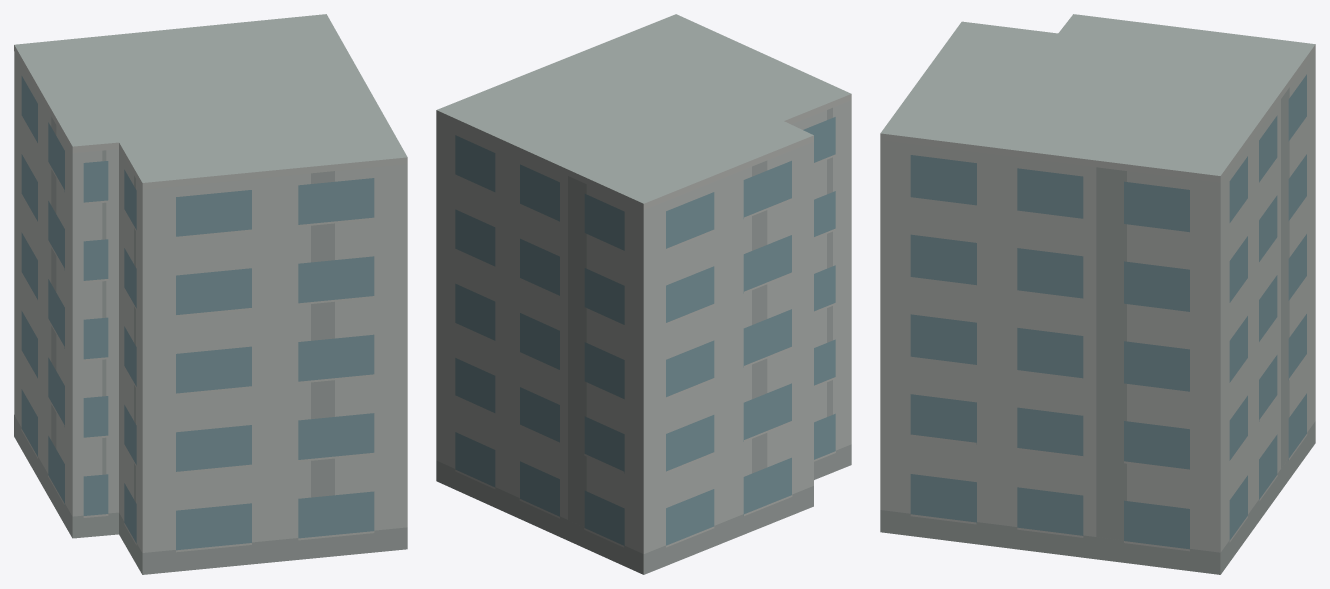
File: survey-upis-32876795.glb
The picture shows the model from 3 angles, left to right: view 1: azimuth 30°, elevation 25°; view 2: azimuth 150°, elevation 25°; view 3: azimuth 270°, elevation 25°; orthographic projection. The views are drawn at different scales.
Visible parts, largest first — view 1: survey-upis-32876795.tmp; view 2: survey-upis-32876795.tmp; view 3: survey-upis-32876795.tmp.
Boxes of the visible parts, <box> form: survey-upis-32876795.tmp: <box>14,14,407,574</box>; survey-upis-32876795.tmp: <box>436,14,851,574</box>; survey-upis-32876795.tmp: <box>880,14,1315,574</box>.
Size of the model in its own units: 12.56 by 14.4 by 14.26.
